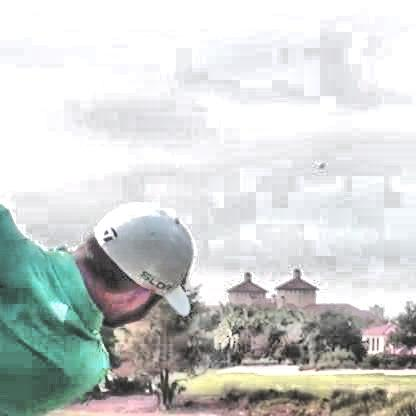golfball: (314, 159, 321, 166)
